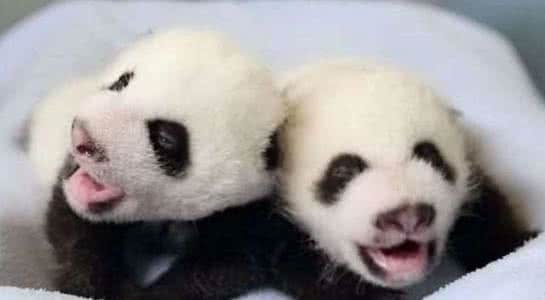panda: (45, 34, 280, 299), (281, 55, 523, 300)
